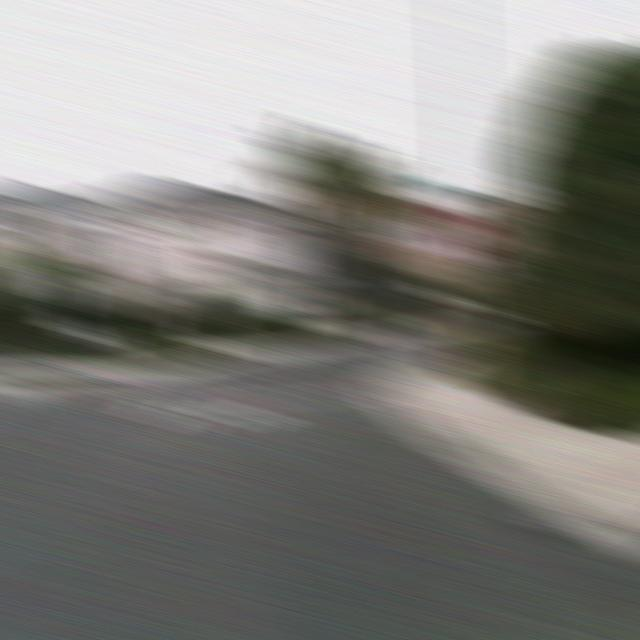stop_sign: (437, 208, 495, 258)
